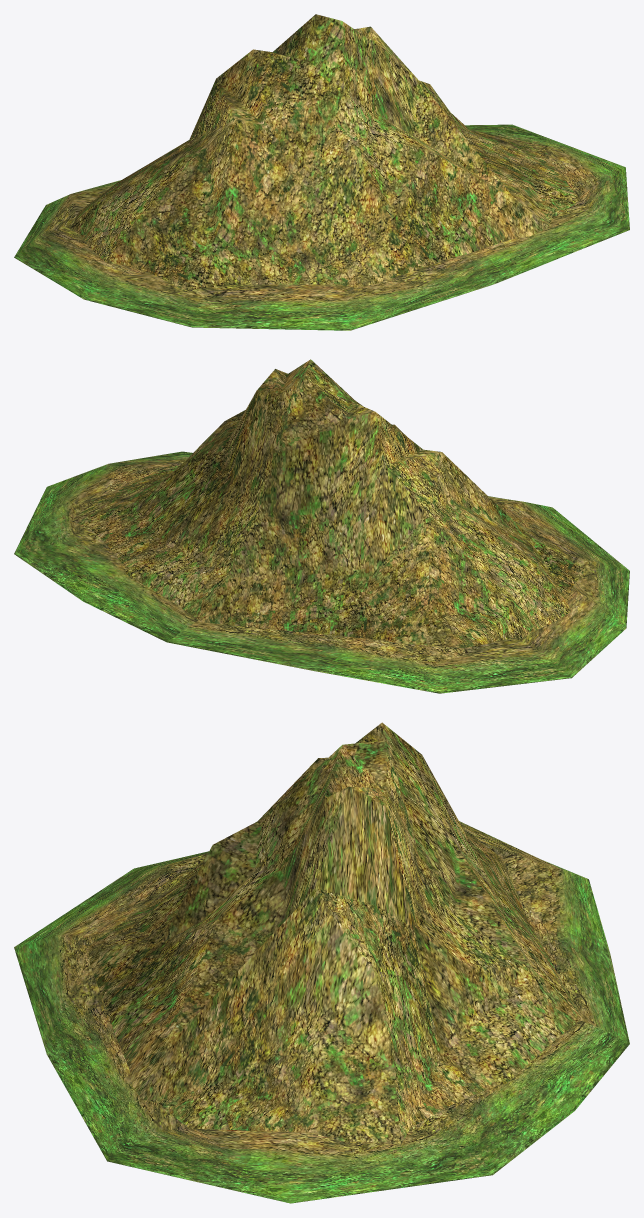
File: hill01.glb
3 renders of one model, top to bottom at view 1: azimuth 30°, elevation 25°; view 2: azimuth 150°, elevation 25°; view 3: azimuth 270°, elevation 25°, orthographic. The views are drawn at different scales.
Parts seen in each view (by area): view 1: hill01; view 2: hill01; view 3: hill01.
Part boxes in pixels (left/top/right/bottom): hill01: left=14, top=14, right=629, bottom=330; hill01: left=14, top=359, right=629, bottom=693; hill01: left=14, top=722, right=629, bottom=1203.
Bounding box in the file's own units: 29.04 × 9.94 × 20.03.
2 materials, 2 textured.
